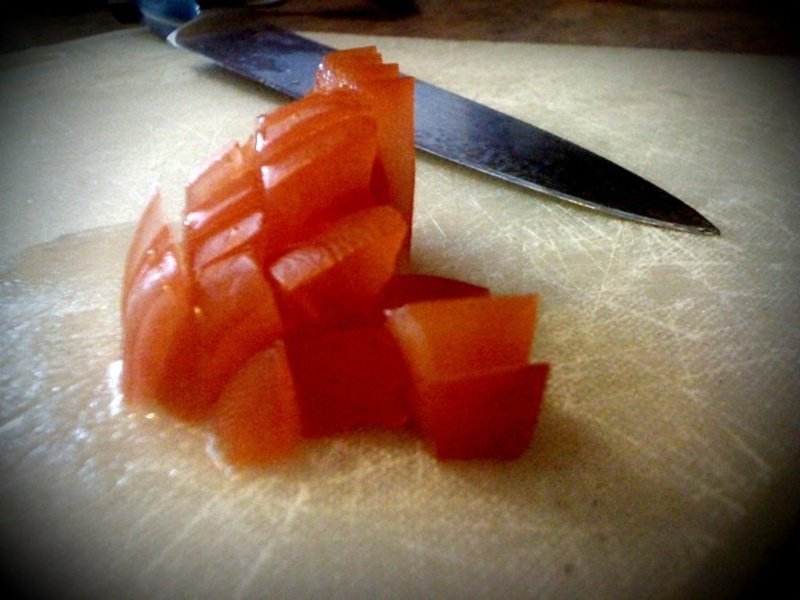knife: (162, 3, 730, 245)
